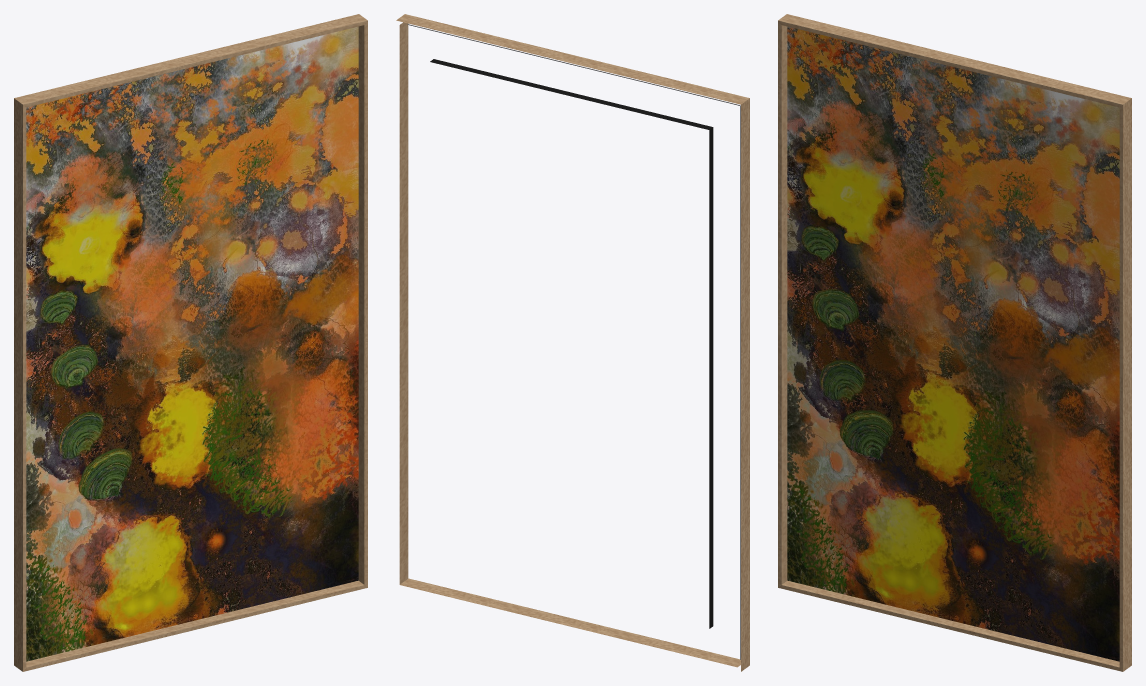
File: os019_grand_caisse-chene.glb
The picture shows the model from 3 angles, left to right: view 1: azimuth 30°, elevation 25°; view 2: azimuth 150°, elevation 25°; view 3: azimuth 330°, elevation 25°; orthographic projection.
Parts seen in each view (by area): view 1: os019_grand_caisse-chene; view 2: os019_grand_caisse-chene; view 3: os019_grand_caisse-chene.
Part boxes in pixels (x1,y1,x2,y2): os019_grand_caisse-chene: (14,14,367,671); os019_grand_caisse-chene: (396,14,749,671); os019_grand_caisse-chene: (778,14,1131,671).
Size of the model in its own units: 0.7817 by 1.23 by 0.035.
4 materials, 2 textured.
